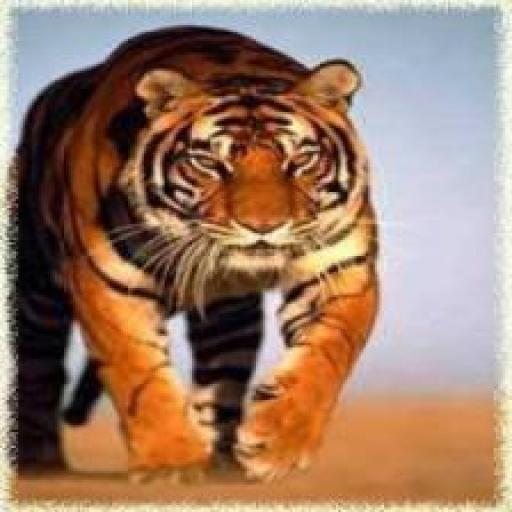Tiger: (5, 26, 387, 486)
